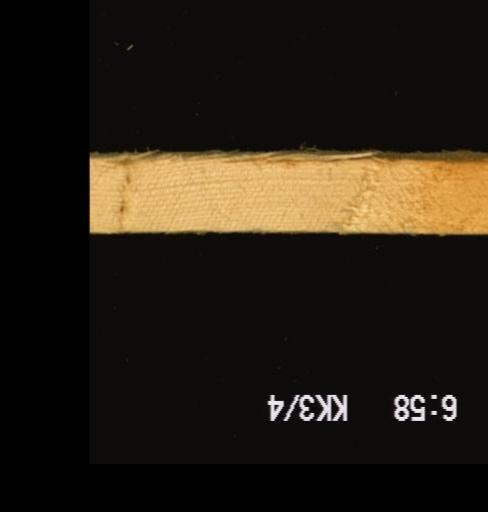small_knot: (90, 159, 149, 227)
